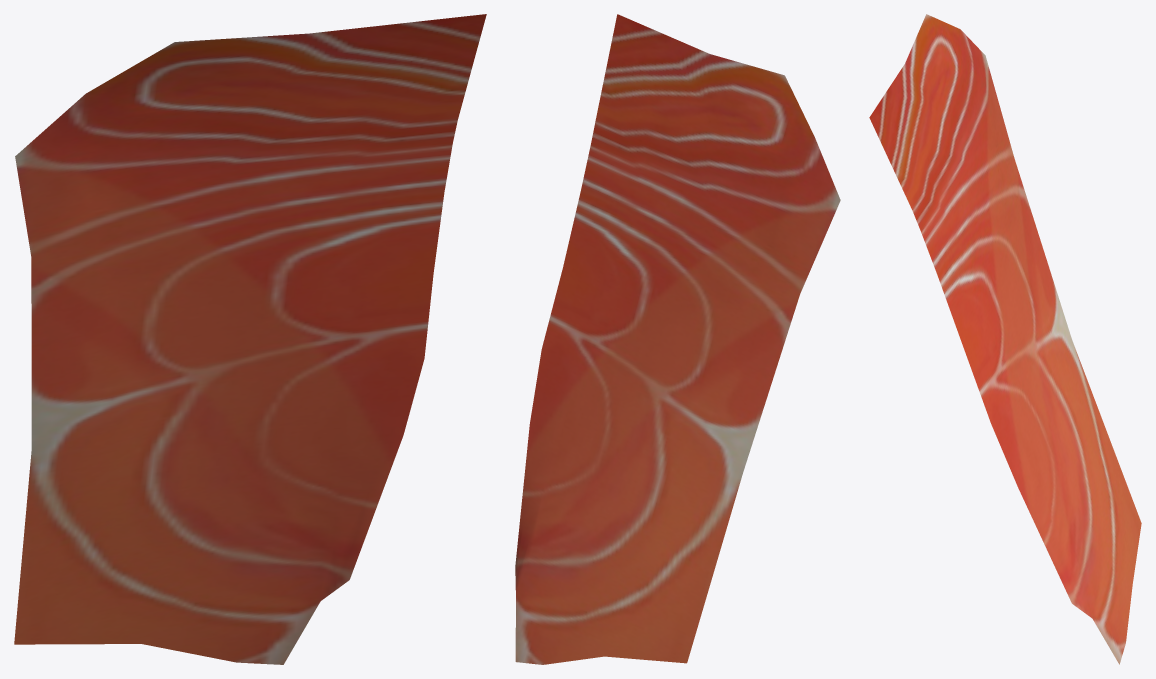
File: salmon-custom-collider-mesh.fbx
The picture shows the model from 3 angles, left to right: view 1: azimuth 30°, elevation 25°; view 2: azimuth 150°, elevation 25°; view 3: azimuth 270°, elevation 25°; orthographic projection. The views are drawn at different scales.
Parts seen in each view (by area): view 1: Collider.Mesh.001; view 2: Collider.Mesh.001; view 3: Collider.Mesh.001.
Boxes of the visible parts, left/top/right/bottom form: Collider.Mesh.001: left=14, top=14, right=486, bottom=664; Collider.Mesh.001: left=515, top=14, right=840, bottom=664; Collider.Mesh.001: left=869, top=14, right=1141, bottom=664.
Size of the model in its own units: 31.12 by 56.1 by 24.49.
